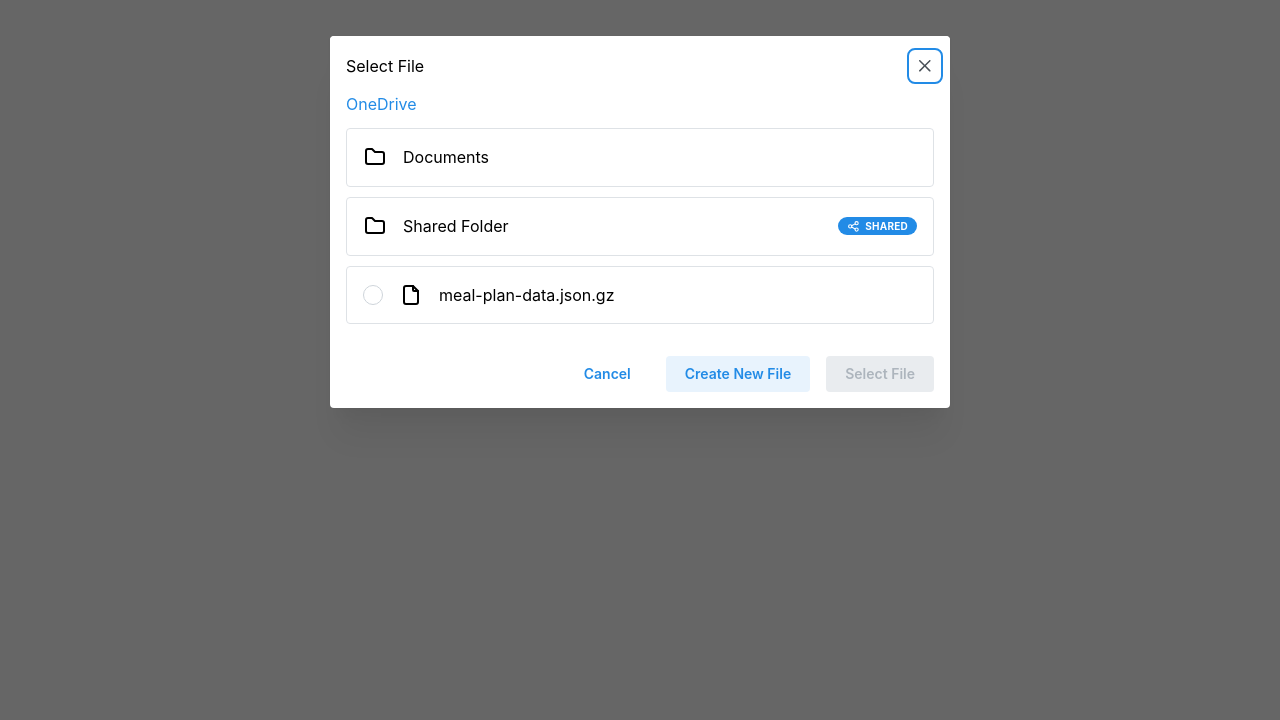
Test: FileSelectionModal › File Creation › should enable create button when filename is valid
This screenshot has width=1280, height=720.
Click the button "Create New File" at (738, 374), box [666,356,810,392]
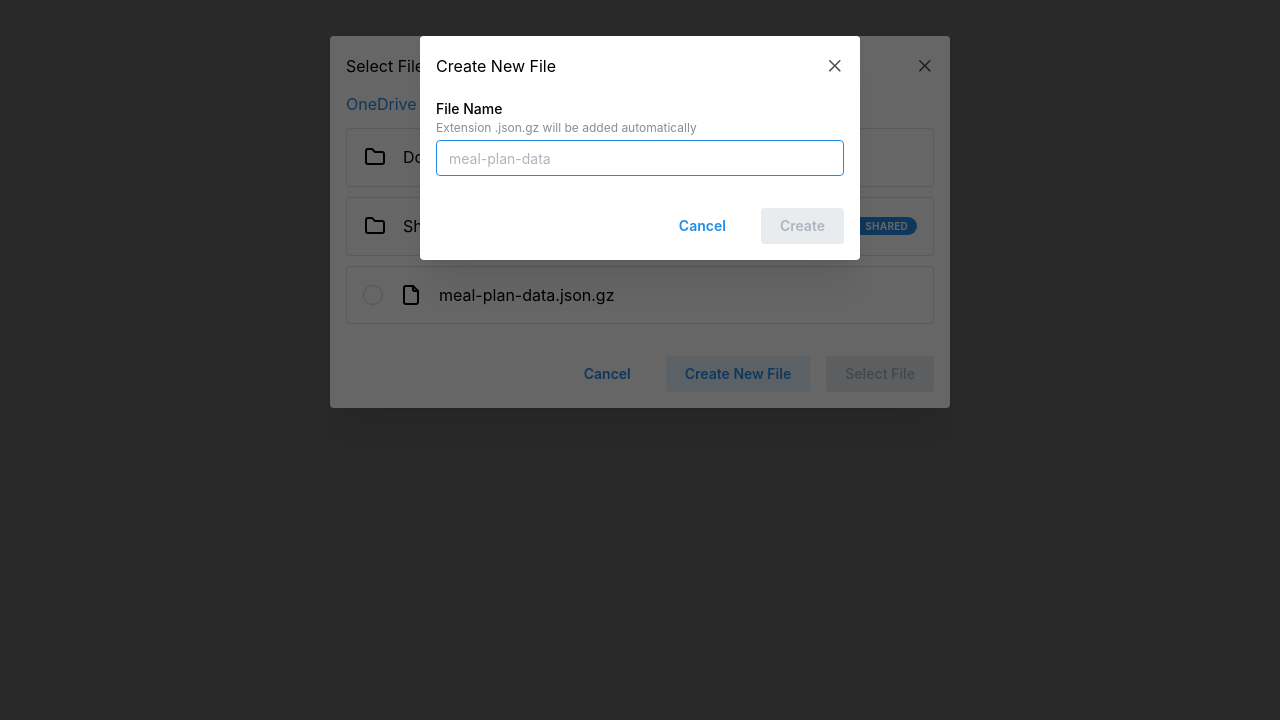
Check: the field labelled "File Name" is shown
Type "new-meal-plan" into the field labelled "File Name" at (640, 158), box [436,140,844,176]
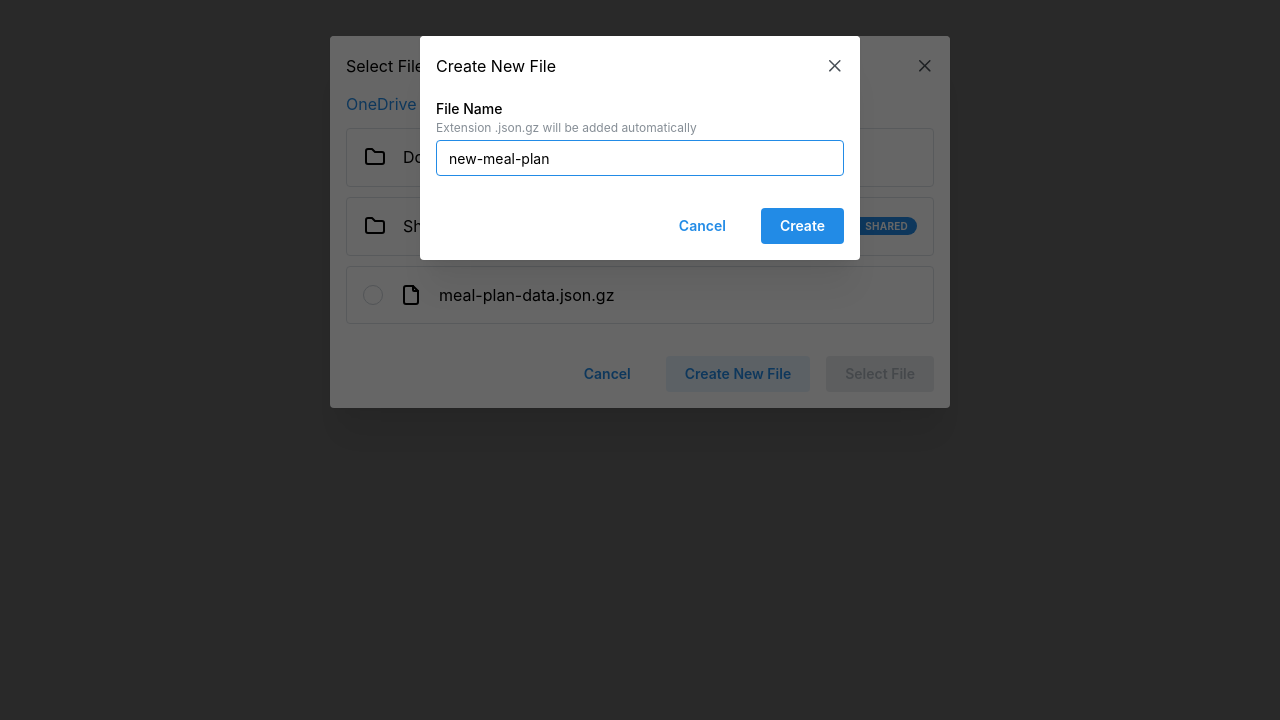
Check: the button "Create" is enabled, box [761,208,844,244]
